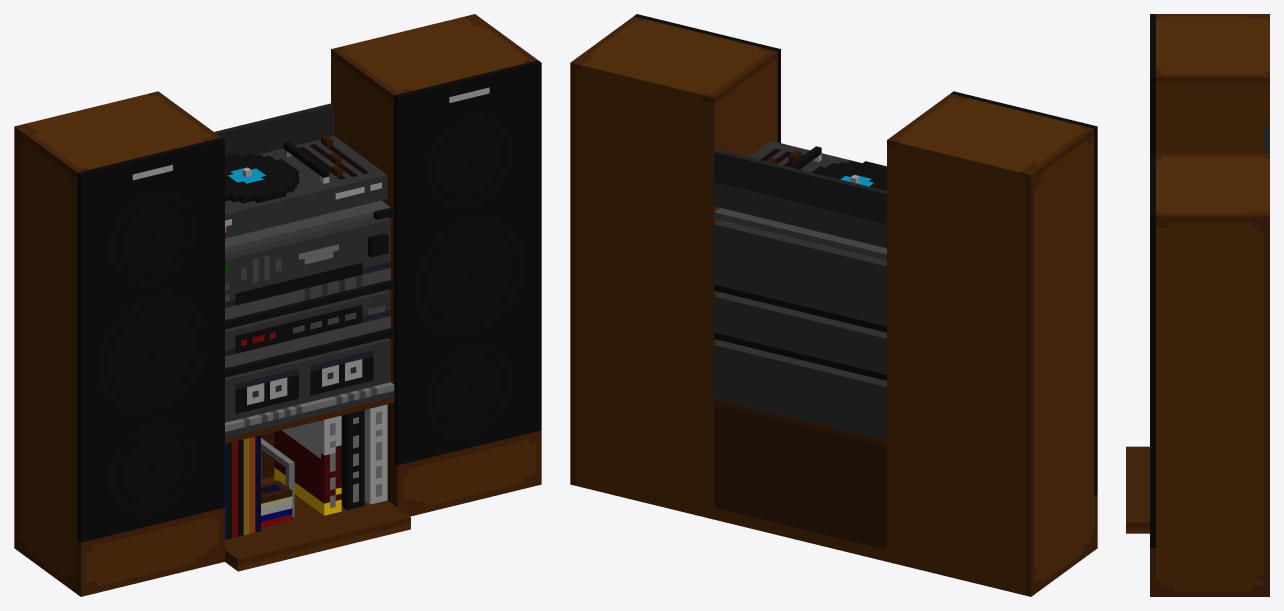
File: Stereo.obj
3 renders of one model, left to right at view 1: azimuth 30°, elevation 25°; view 2: azimuth 150°, elevation 25°; view 3: azimuth 270°, elevation 25°, orthographic. The views are drawn at different scales.
Visible parts, largest first — view 1: ObjObject; view 2: ObjObject; view 3: ObjObject.
Part boxes in pixels (<box>): ObjObject: <box>14,14,541,596</box>; ObjObject: <box>570,14,1097,596</box>; ObjObject: <box>1126,14,1269,596</box>.
Bounding box in the file's own units: 4 × 3.5 × 1.2.
1 material, 1 textured.
